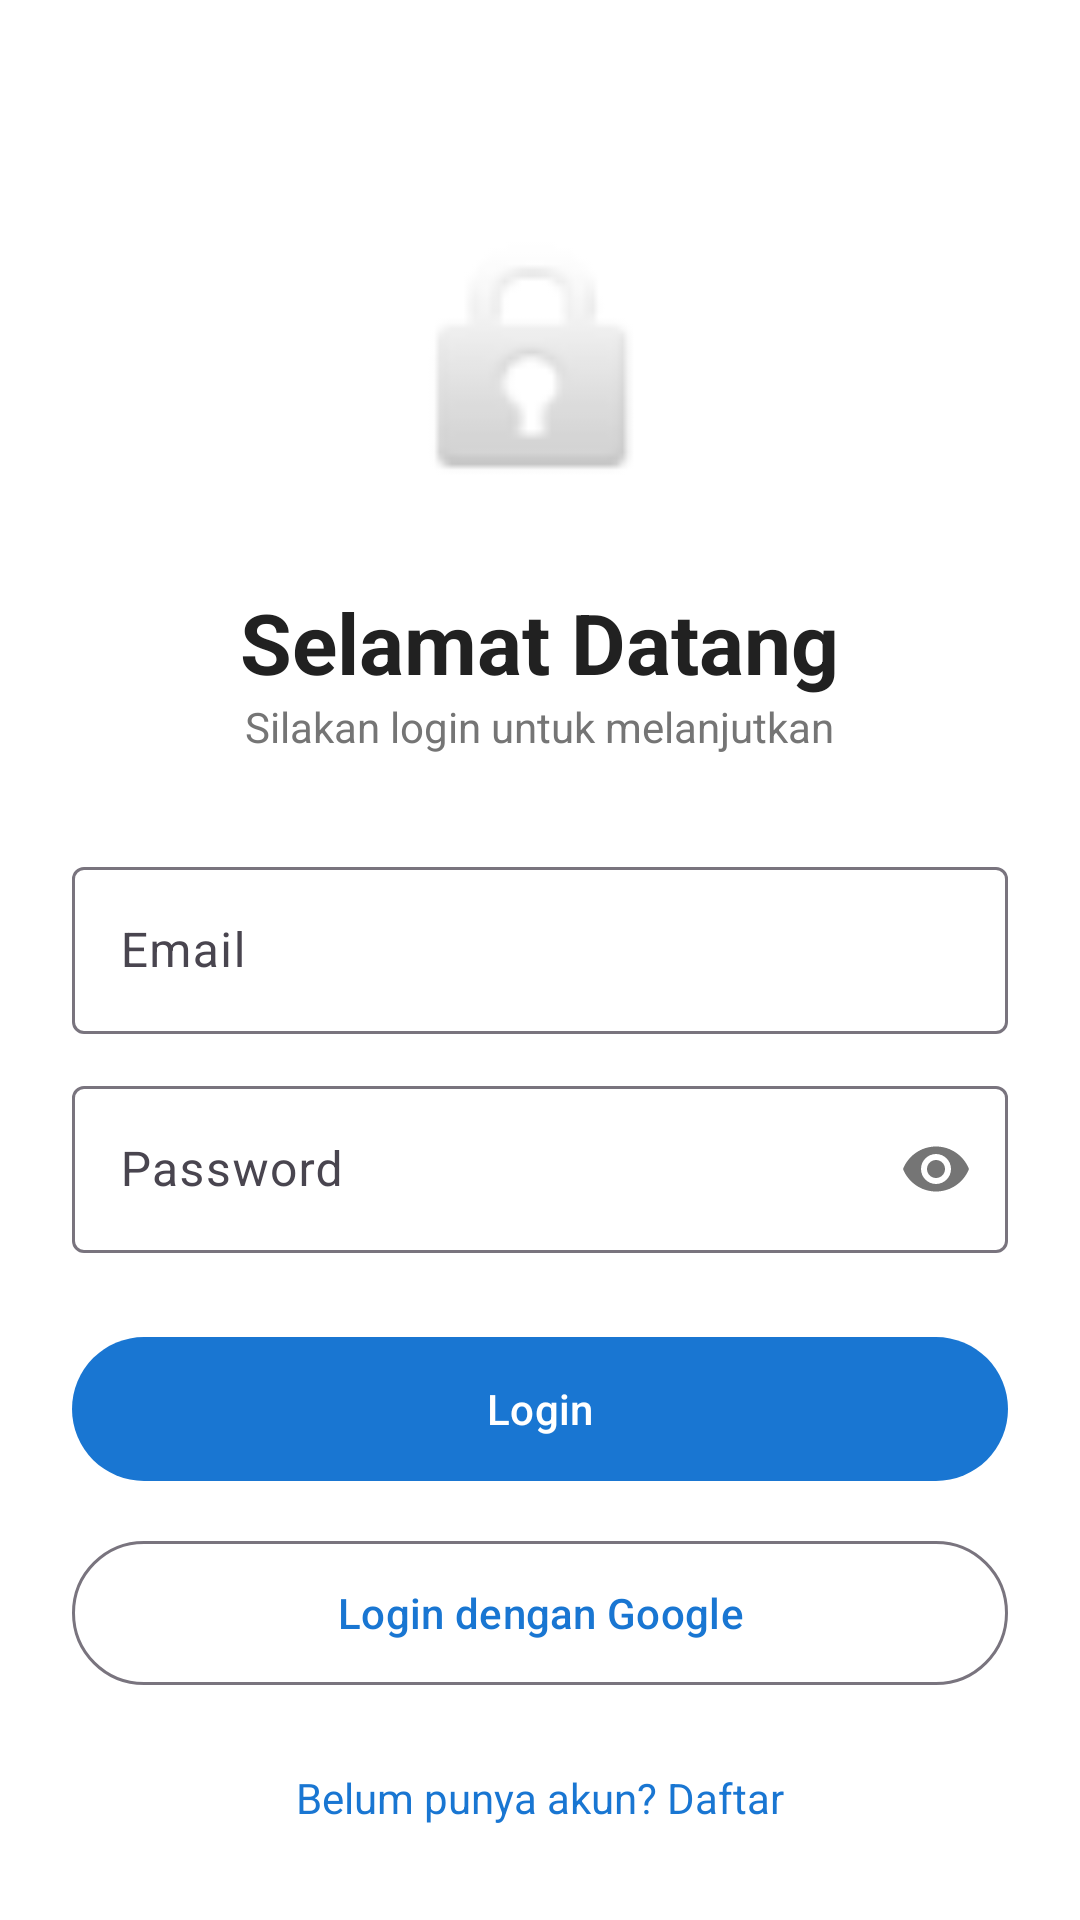

Screen size 1080px x 1920px. Icon name, then its center in pixels as point (x, y):
lock idle: point (532, 404)
